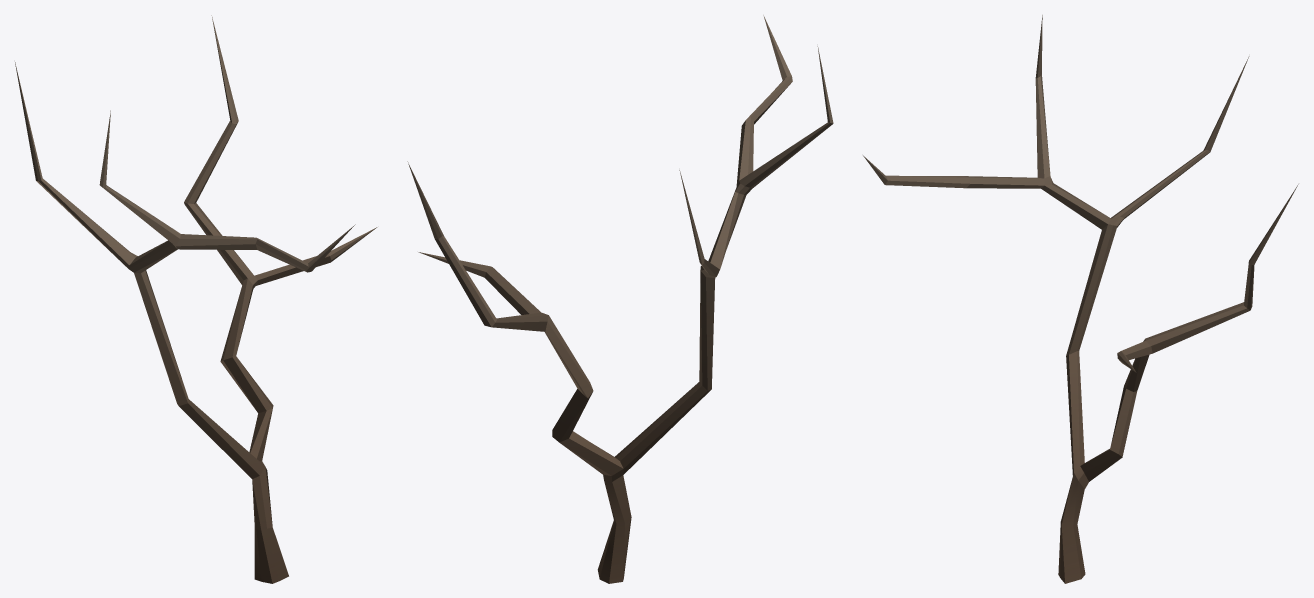
The model's file is PT_Generic_Shrub_01_dead.glb.
The picture shows the model from 3 angles, left to right: view 1: azimuth 30°, elevation 25°; view 2: azimuth 150°, elevation 25°; view 3: azimuth 270°, elevation 25°; orthographic projection. The views are drawn at different scales.
Visible parts, largest first — view 1: PT_Generic_Shrub_01_dead_LOD0; view 2: PT_Generic_Shrub_01_dead_LOD0; view 3: PT_Generic_Shrub_01_dead_LOD0.
Part boxes in pixels (x1,y1,x2,y2): PT_Generic_Shrub_01_dead_LOD0: (15,15,377,583); PT_Generic_Shrub_01_dead_LOD0: (407,15,833,583); PT_Generic_Shrub_01_dead_LOD0: (863,15,1298,583).
Size of what is drawn, in the model's own units: 1.11 by 1.67 by 1.37.
1 material, 1 textured.
